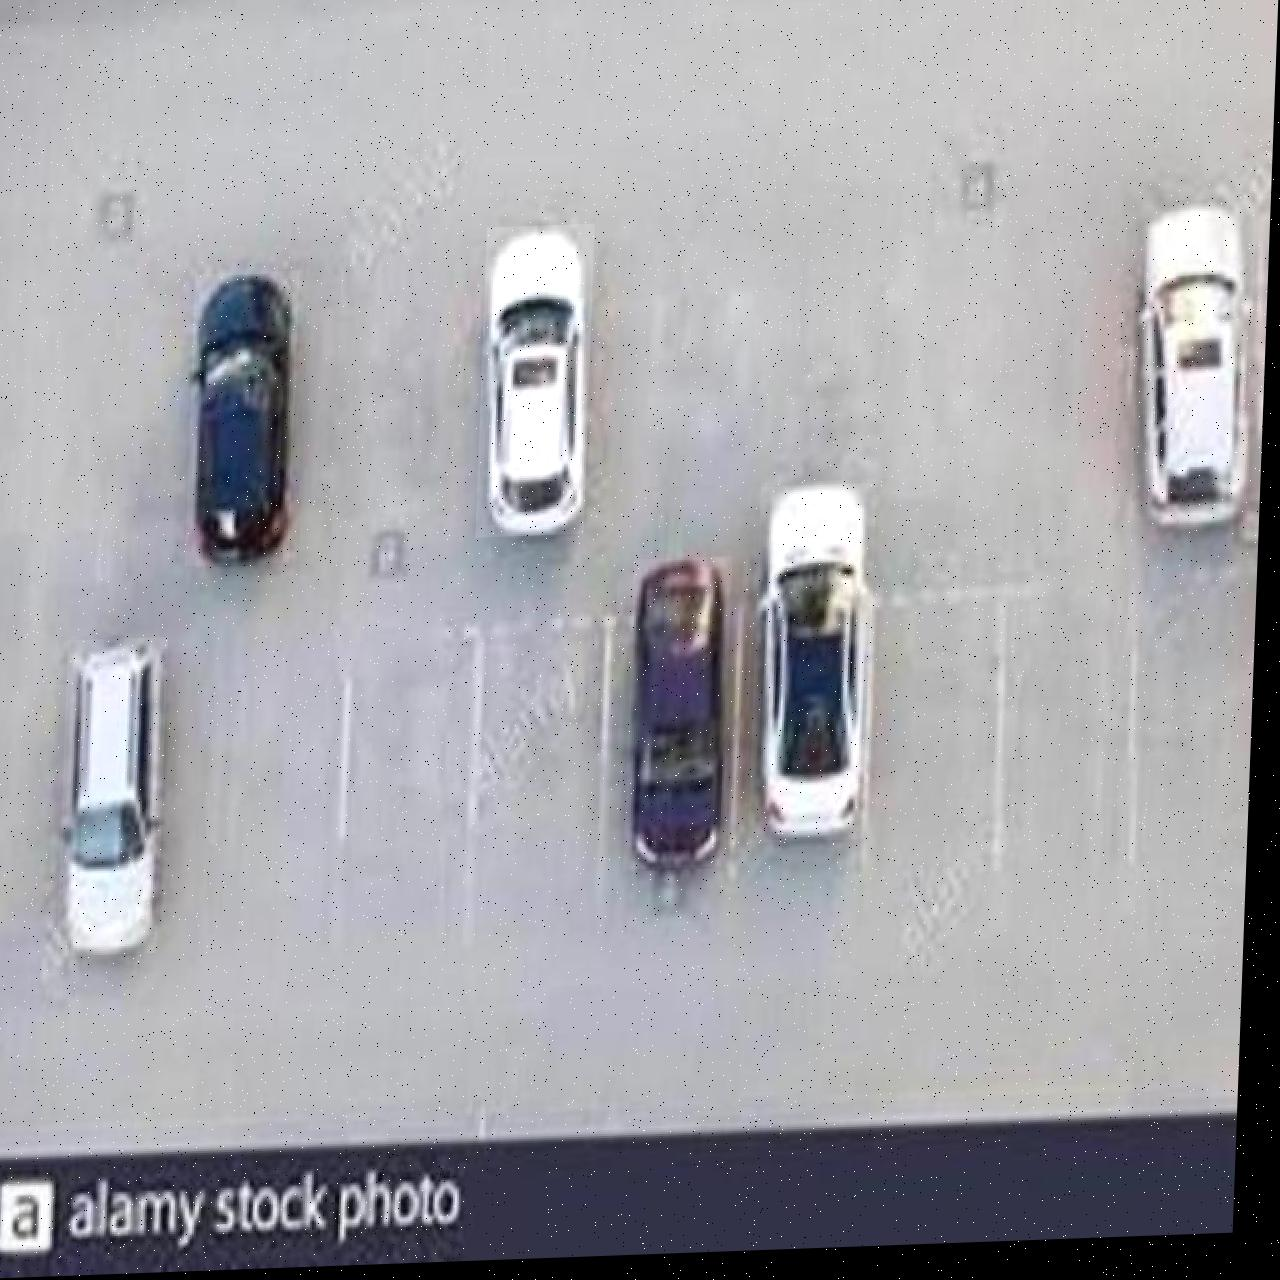car: (755, 490, 881, 850), (1133, 211, 1259, 538), (479, 229, 597, 542), (64, 639, 173, 958), (629, 563, 737, 874), (189, 273, 301, 568)
